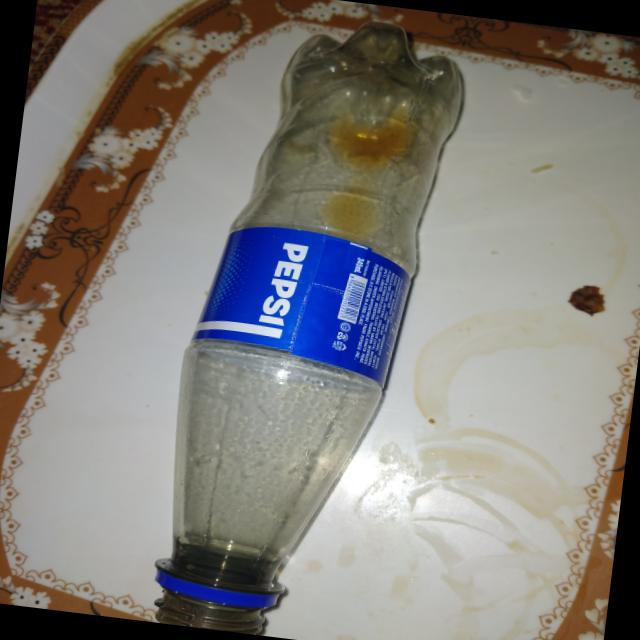electronic: (0, 0, 640, 640)
general: (146, 1, 473, 640)
